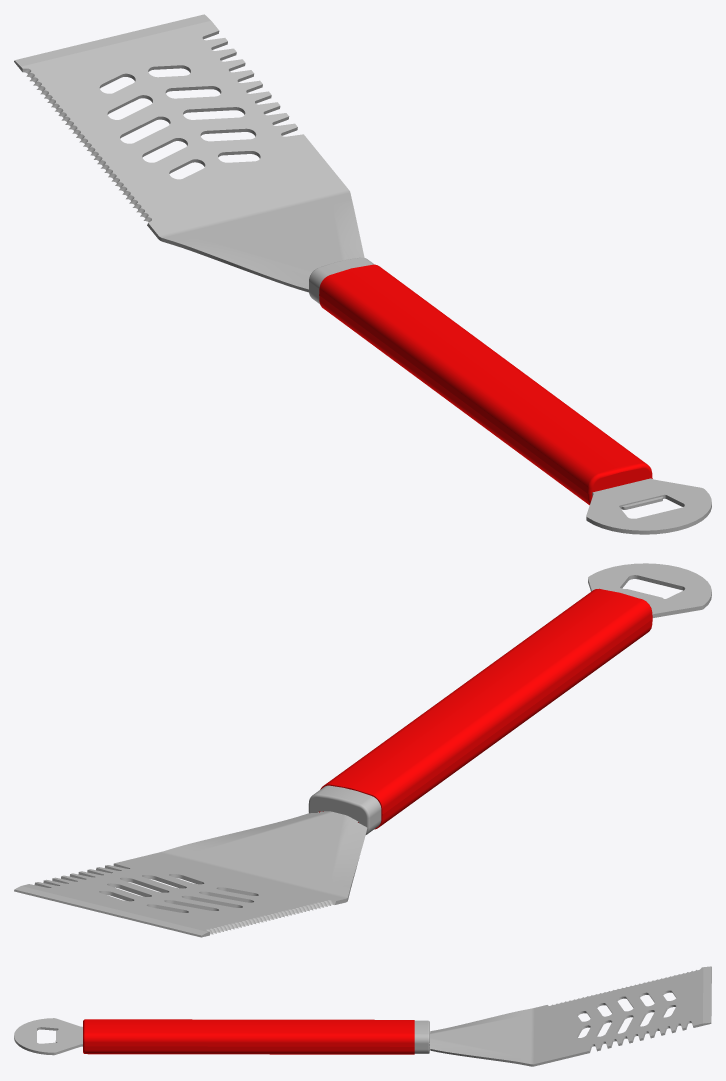
The picture shows the model from 3 angles, top to bottom: view 1: azimuth 30°, elevation 25°; view 2: azimuth 150°, elevation 25°; view 3: azimuth 270°, elevation 25°; orthographic projection. The views are drawn at different scales.
Visible parts, largest first — view 1: Grill_Spatula_moderate_1-3, Grill_Spatula_moderate_1, Grill_Spatula_moderate_1-2, Grill_Spatula_moderate_1-1; view 2: Grill_Spatula_moderate_1-3, Grill_Spatula_moderate_1, Grill_Spatula_moderate_1-2, Grill_Spatula_moderate_1-1; view 3: Grill_Spatula_moderate_1-3, Grill_Spatula_moderate_1, Grill_Spatula_moderate_1-2, Grill_Spatula_moderate_1-1.
Boxes of the visible parts, bbox=[...] form: Grill_Spatula_moderate_1-3: bbox=[14, 14, 364, 292]; Grill_Spatula_moderate_1: bbox=[319, 264, 652, 505]; Grill_Spatula_moderate_1-2: bbox=[586, 478, 711, 534]; Grill_Spatula_moderate_1-1: bbox=[309, 257, 374, 303]; Grill_Spatula_moderate_1-3: bbox=[14, 811, 367, 937]; Grill_Spatula_moderate_1: bbox=[319, 588, 652, 829]; Grill_Spatula_moderate_1-2: bbox=[588, 563, 711, 617]; Grill_Spatula_moderate_1-1: bbox=[308, 785, 381, 834]; Grill_Spatula_moderate_1-3: bbox=[429, 966, 711, 1066]; Grill_Spatula_moderate_1: bbox=[83, 1019, 414, 1054]; Grill_Spatula_moderate_1-2: bbox=[14, 1018, 82, 1055]; Grill_Spatula_moderate_1-1: bbox=[414, 1020, 429, 1053].
Bounding box in the file's own units: 0.2162 × 0.0975 × 1.12.
